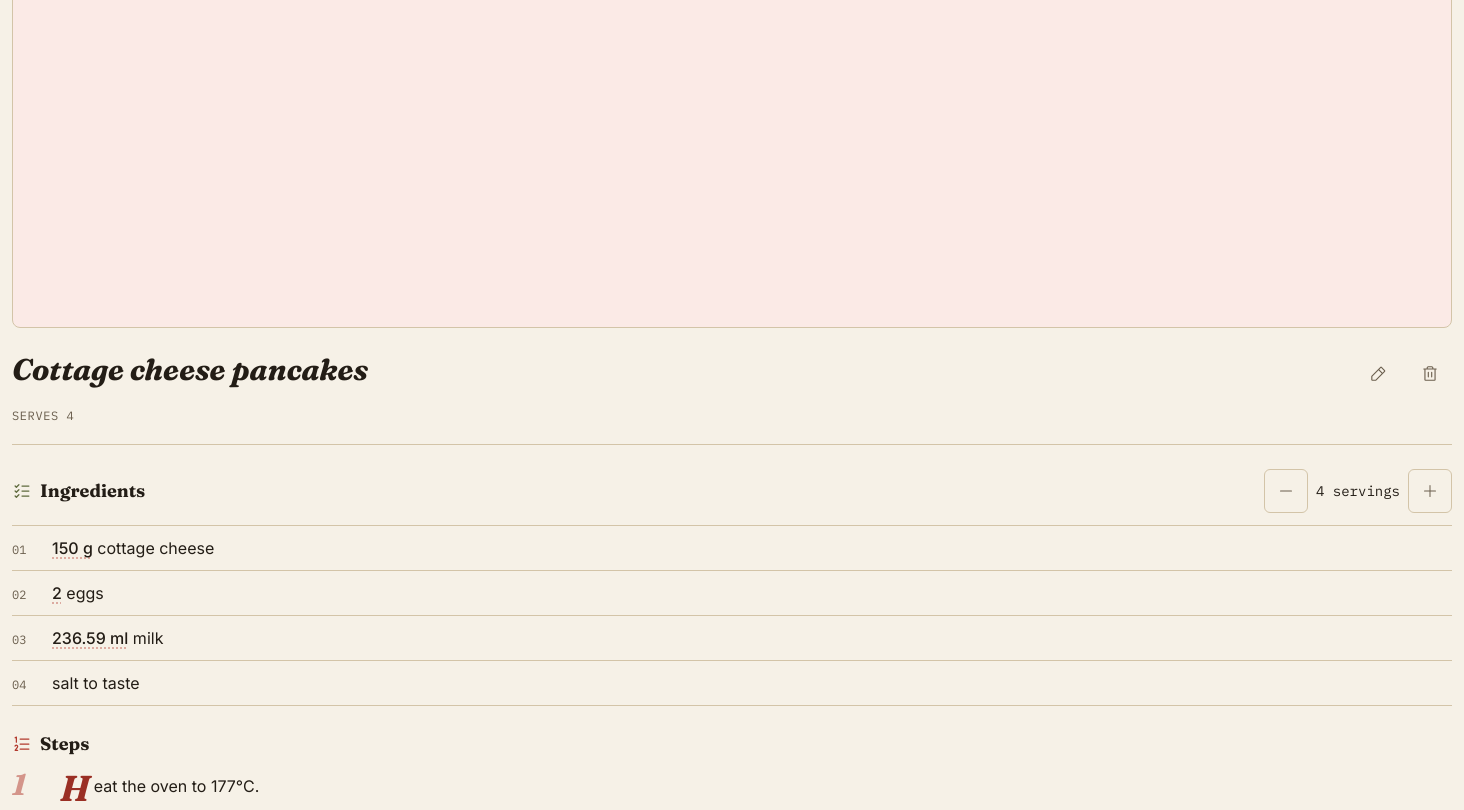
RecipeDetailPage — scaling › scales from one ingredient, exactly (150 g → 200 g)
(page scrolled)
Click the button named "scale recipe from cottage cheese". click: (72, 548)
box: [52,536,93,560]
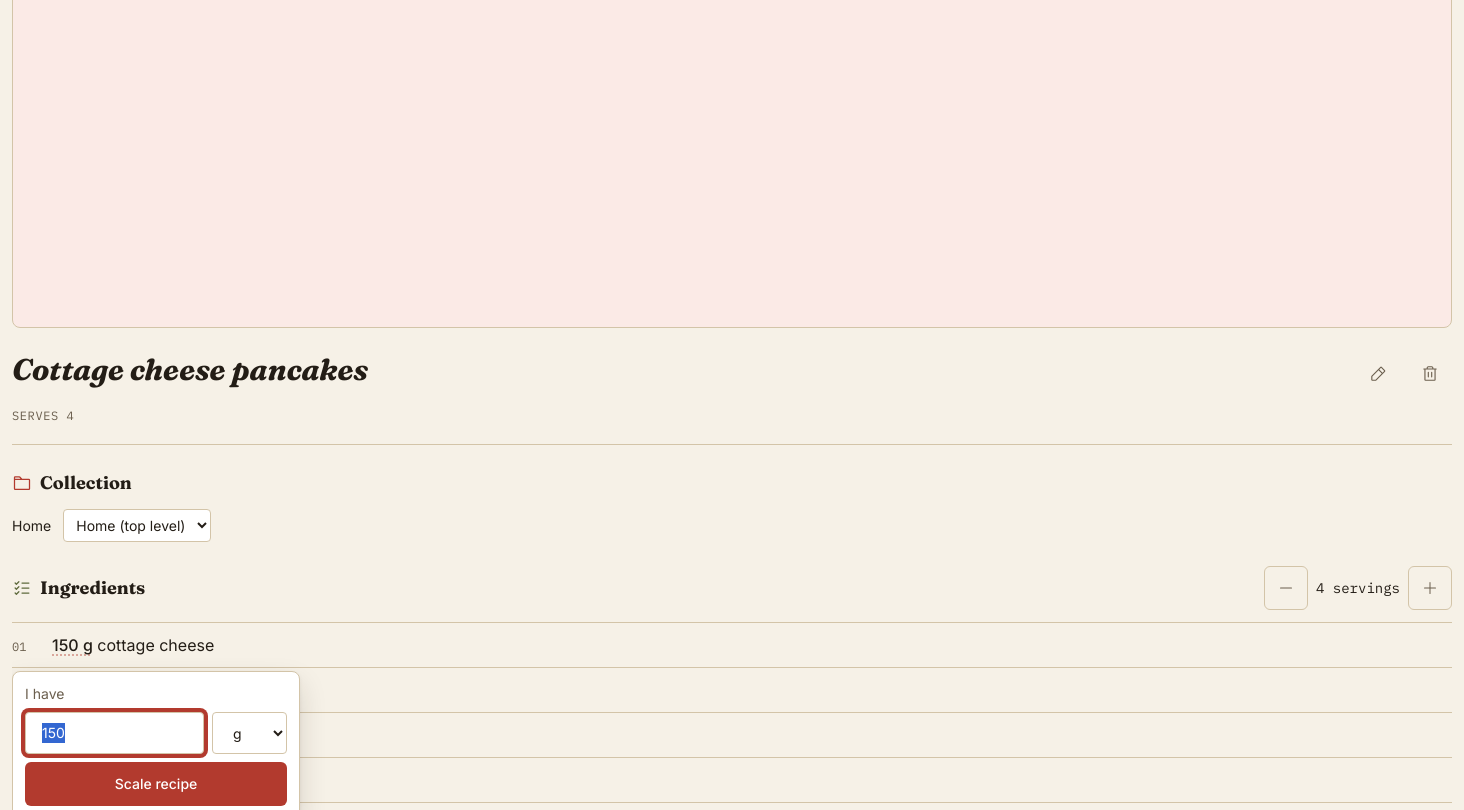
Replace the text in the field labelled "I have" with "200". click: (114, 733)
box: [25,712,204,754]
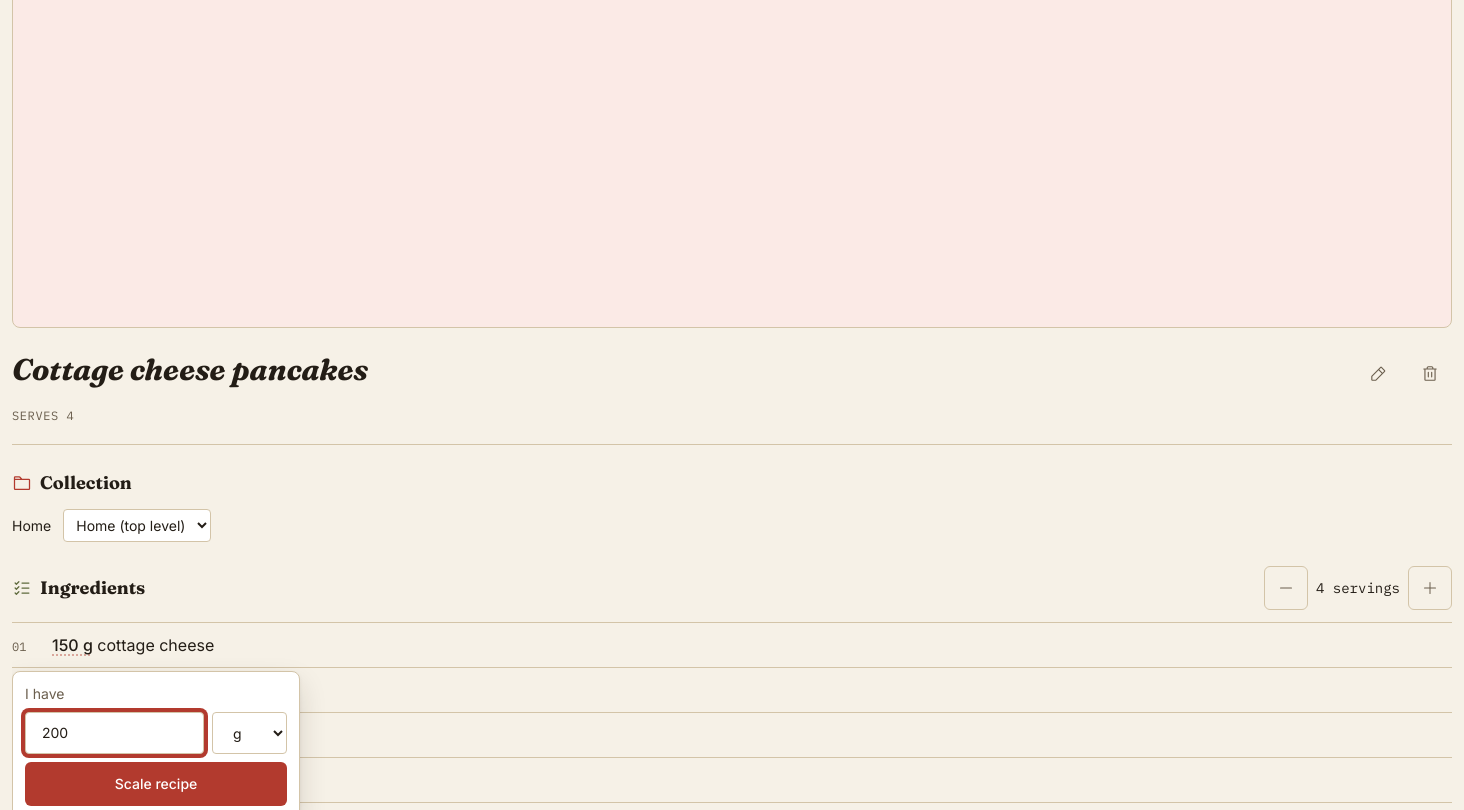
Click the button "Scale recipe". click: (156, 784)
box: [25,762,287,806]
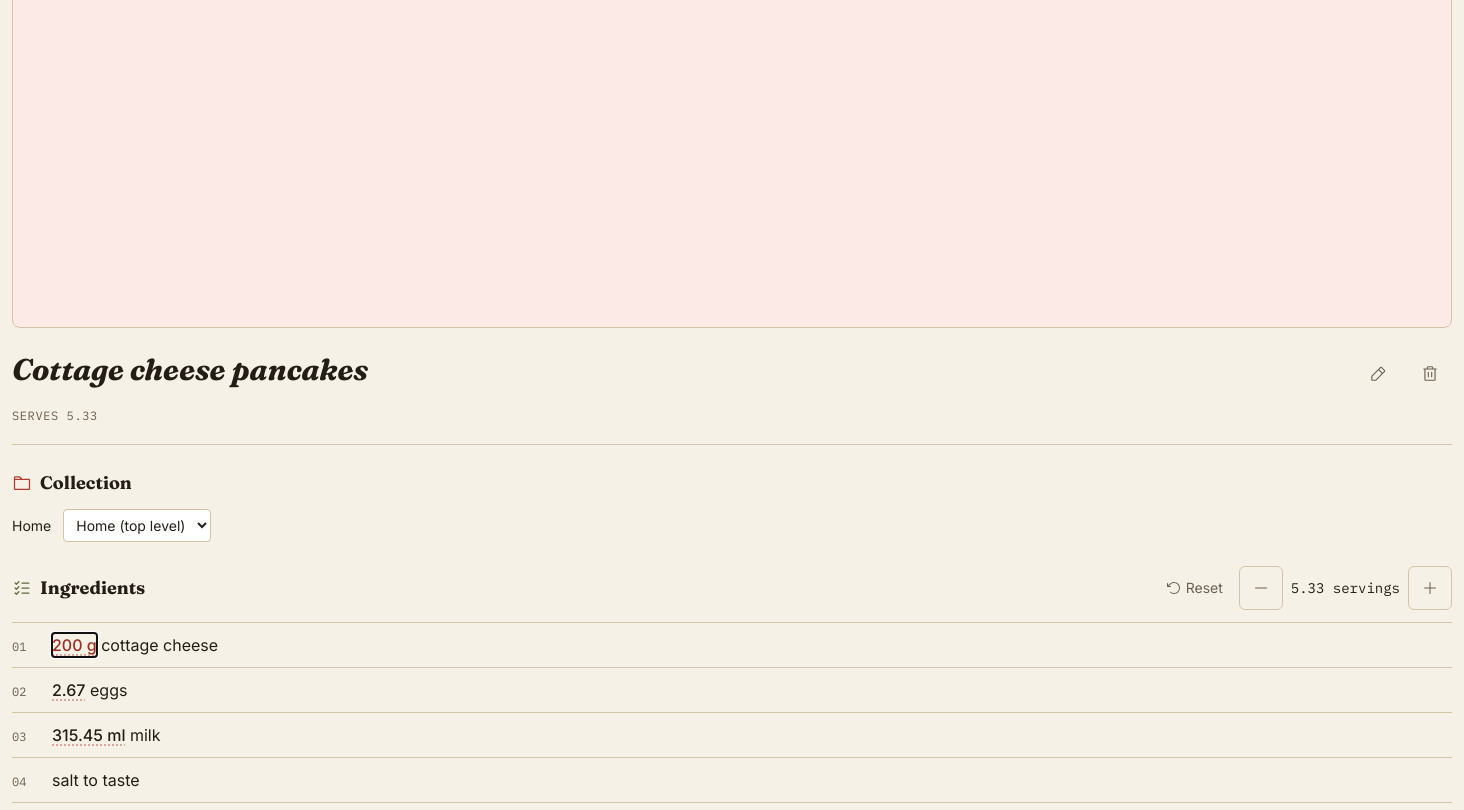
Now the text "5.33 servings" is shown, box [1291,578,1400,598]
